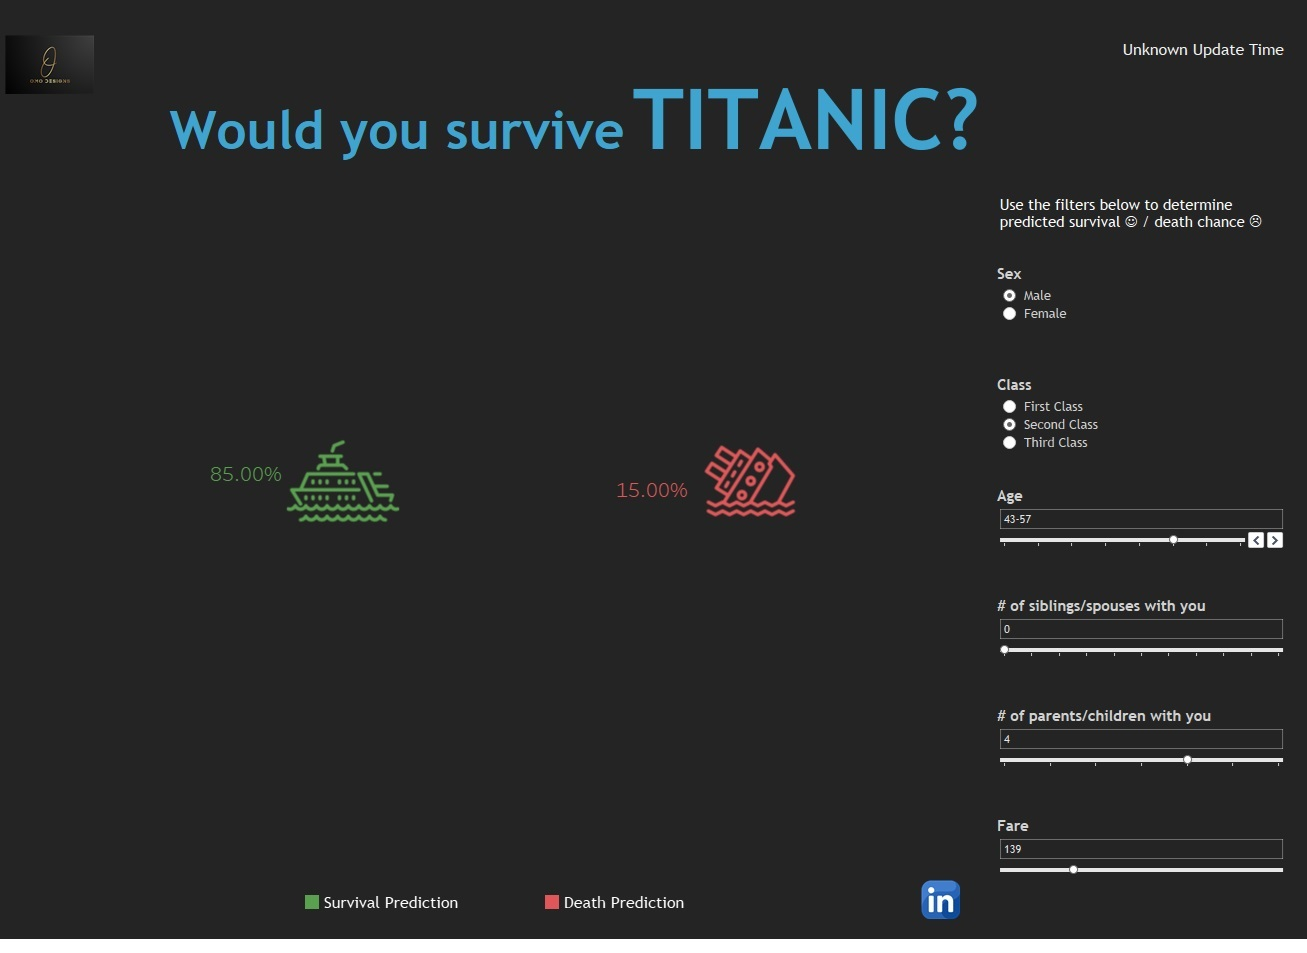

The page's visual inventory and layout, read from the dashboard file:
{"tool":"tableau","page":{"name":"Titanic Chance","canvas":[1300,900],"ordinal":0},"visuals":[{"type":"image","param":"Image/Logo_new.png","box":[7,4,169,59]},{"type":"worksheet","title":"updated","mark":"Automatic","box":[1097,5,193,27]},{"type":"worksheet","title":"Titanic","mark":"Shape","cols":["Calculation_3113676229279674369","Calculation_3113676229280473090"],"box":[8,8,820,884]},{"type":"blank","box":[828,8,167,884]},{"type":"text","box":[995,8,297,111]},{"type":"text","box":[169,10,1085,157]},{"type":"text","box":[995,119,297,111]},{"type":"parameter","param":"[Parameters].[Parameter 6]","box":[995,230,297,111]},{"type":"parameter","param":"[Parameters].[Parameter 4]","box":[995,341,297,111]},{"type":"parameter","param":"[Parameters].[Parameter 1]","box":[995,452,297,110]},{"type":"parameter","param":"[Parameters].[Parameter 3]","box":[995,562,297,110]},{"type":"blank","box":[69,654,284,149]},{"type":"parameter","param":"[Parameters].[Parameter 2]","box":[995,672,297,110]},{"type":"parameter","param":"[Parameters].[Parameter 5]","box":[995,782,297,110]},{"type":"image","param":"Image/linkedin.png","box":[923,849,52,39]},{"type":"legend","title":"Titanic","param":"[federated.1pdyakx1rhwmrd1a1qm5d0lpmjni].[:Measure Names]","box":[304,861,506,28]}]}

Visuals, with their boxes on the page's 1300x900 design canvas (x1, y1, x2, y2). These are canvas units, not pixel positions in the 1307x953 screenshot, which may show the page scaled, cropped or inside an application window:
image: Rect(7, 4, 176, 63)
"updated" worksheet: Rect(1097, 5, 1290, 32)
"Titanic" worksheet (Shape marks): Rect(8, 8, 828, 892)
blank: Rect(828, 8, 995, 892)
text: Rect(995, 8, 1292, 119)
text: Rect(169, 10, 1254, 167)
text: Rect(995, 119, 1292, 230)
parameter: Rect(995, 230, 1292, 341)
parameter: Rect(995, 341, 1292, 452)
parameter: Rect(995, 452, 1292, 562)
parameter: Rect(995, 562, 1292, 672)
blank: Rect(69, 654, 353, 803)
parameter: Rect(995, 672, 1292, 782)
parameter: Rect(995, 782, 1292, 892)
image: Rect(923, 849, 975, 888)
"Titanic" legend: Rect(304, 861, 810, 889)
